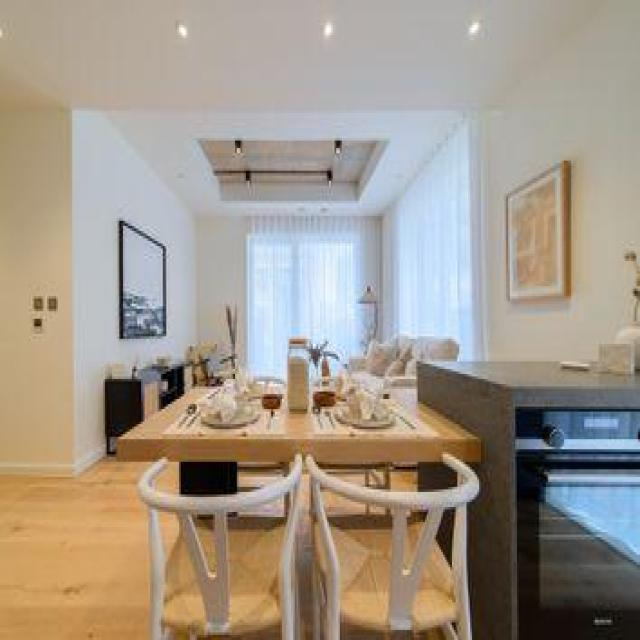Wall: (0, 1, 595, 110), (74, 111, 246, 469), (490, 3, 640, 360), (106, 114, 465, 215), (0, 456, 148, 639), (0, 109, 71, 471), (483, 113, 567, 358), (116, 148, 196, 358), (239, 496, 287, 518), (323, 492, 363, 515), (239, 474, 281, 490), (163, 515, 179, 553), (159, 463, 178, 492), (391, 470, 415, 489), (344, 474, 363, 482), (370, 506, 385, 514)
